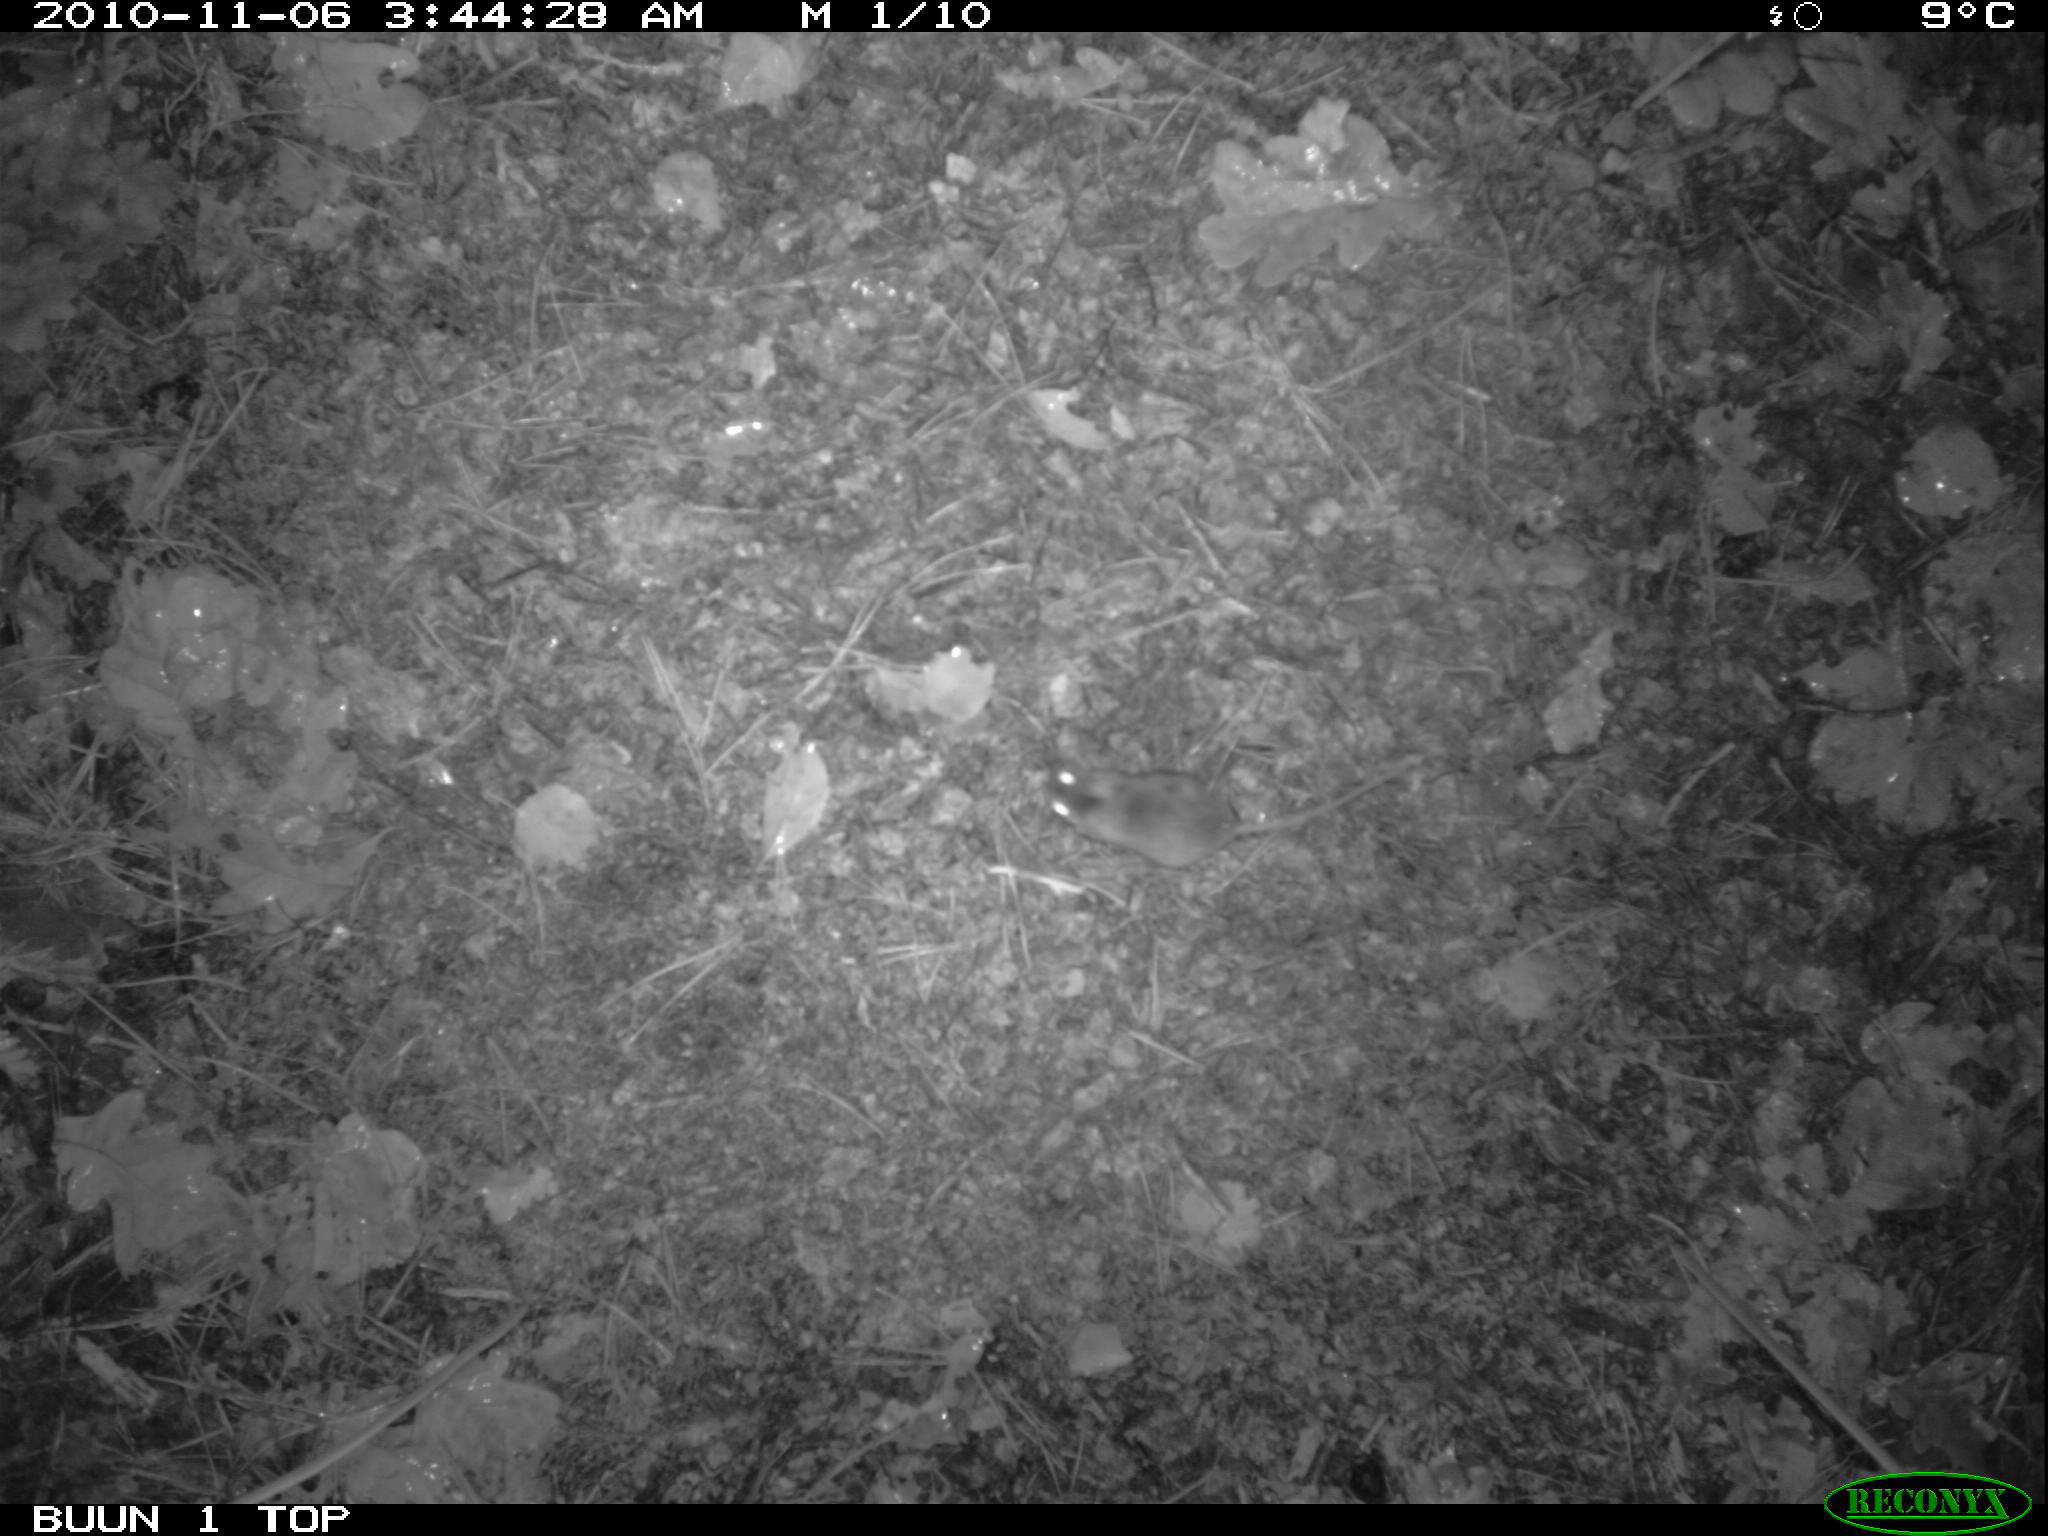Rodent: (1016, 741, 1413, 879)
